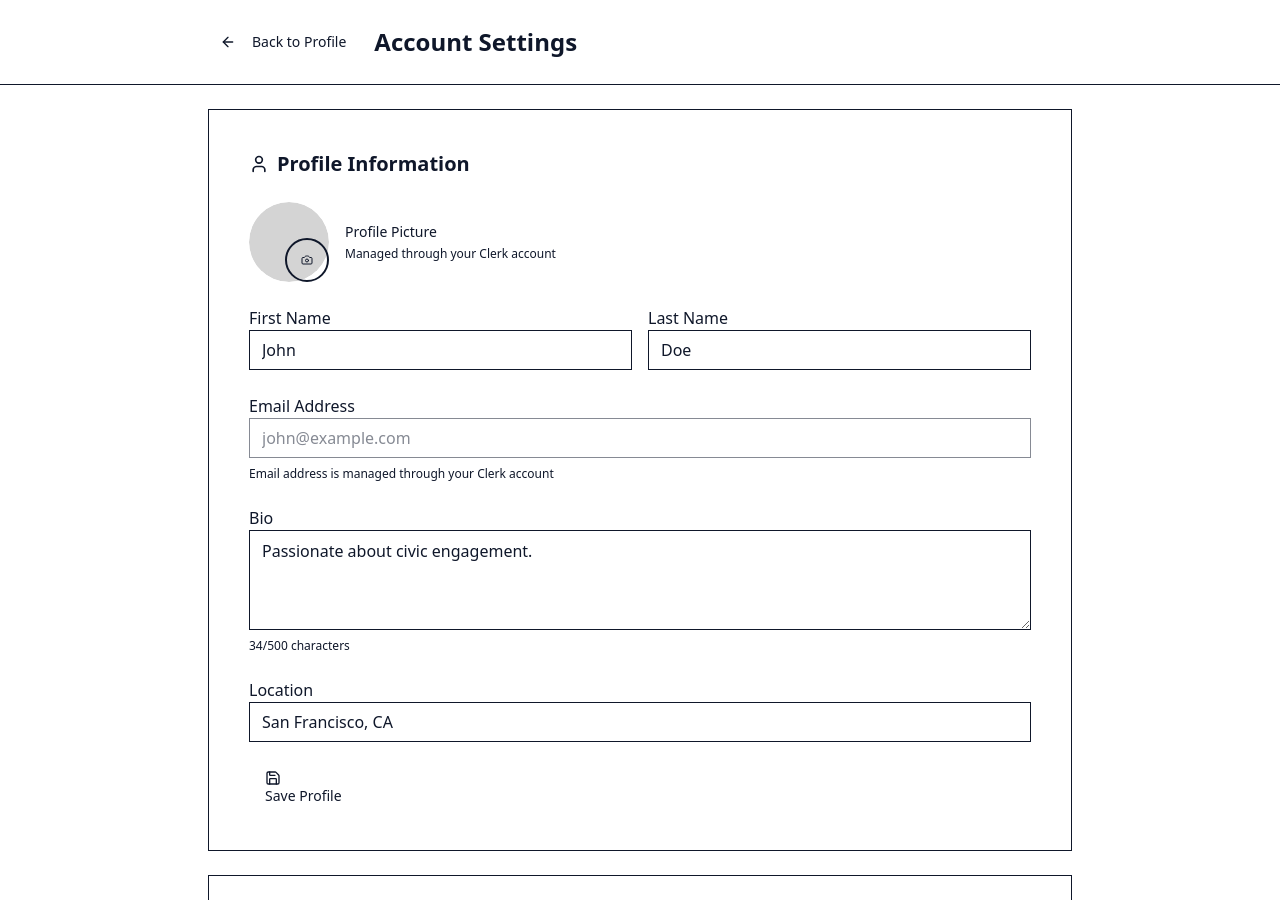
Test: SettingsPage › shows error message when profile update fails
Check: the field showing "John" is shown, box x1=249 y1=330 x2=632 y2=370
Click the button "Save Profile".
click(303, 788)  # box x1=249 y1=766 x2=358 y2=810
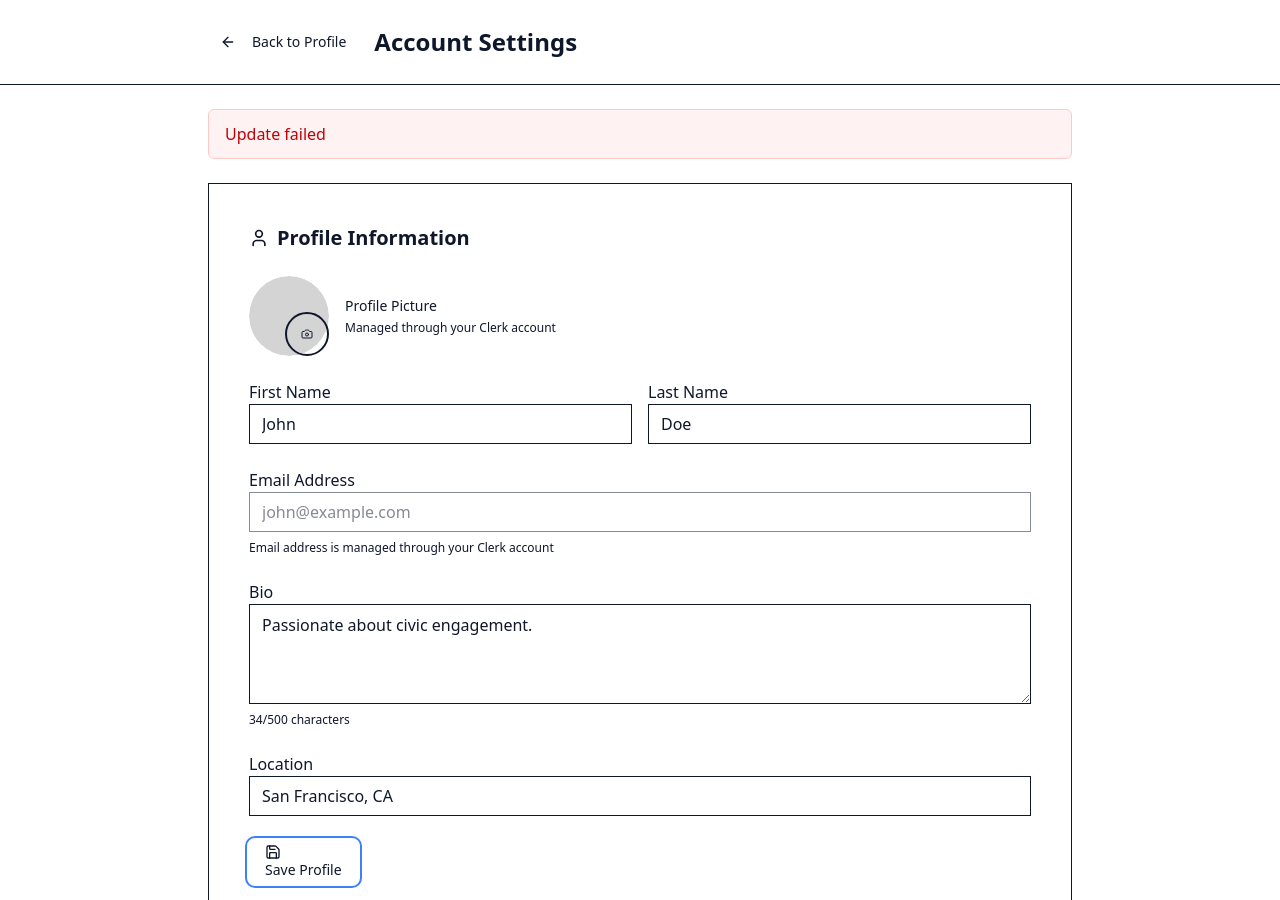
Check: the text "Update failed" is shown, box x1=208 y1=109 x2=1072 y2=159
